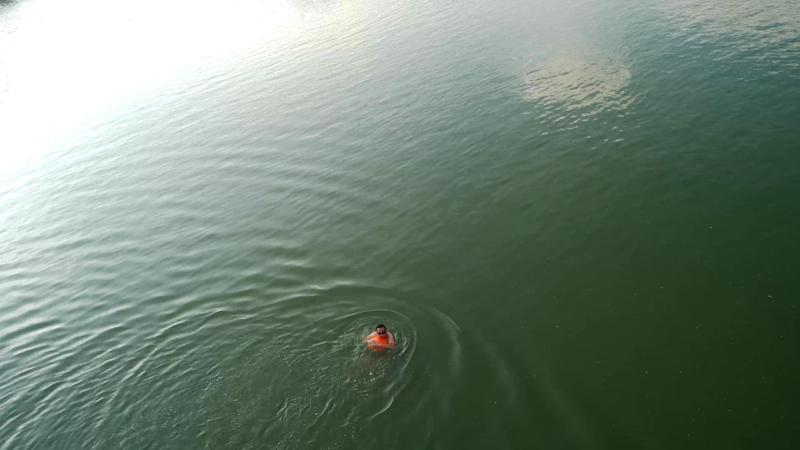swimmers: (365, 322, 394, 350)
